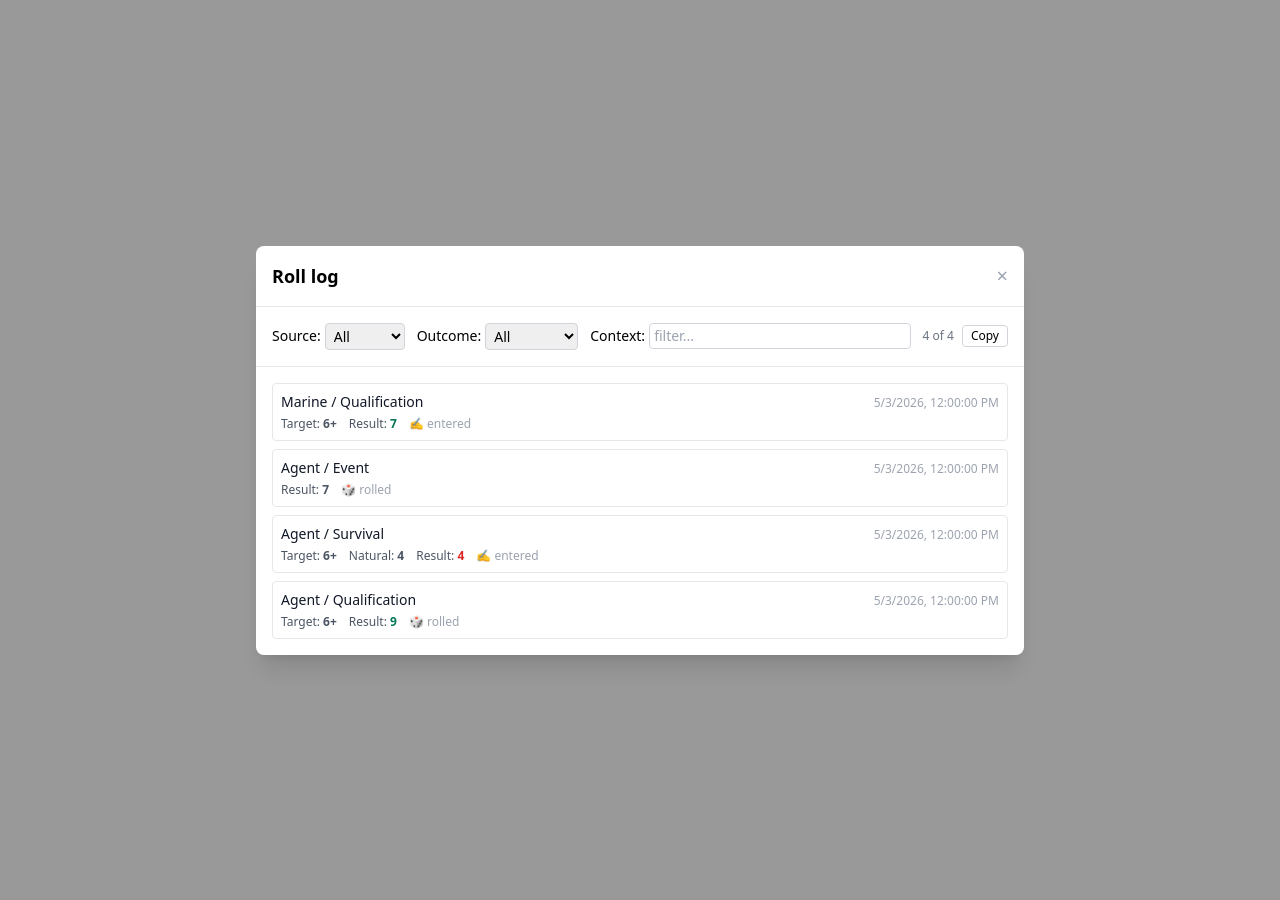
RollLogViewer › filters by outcome: fail
Select "Fail" in the dropdown named "Outcome filter" at (532, 336), box [485,322,578,350]
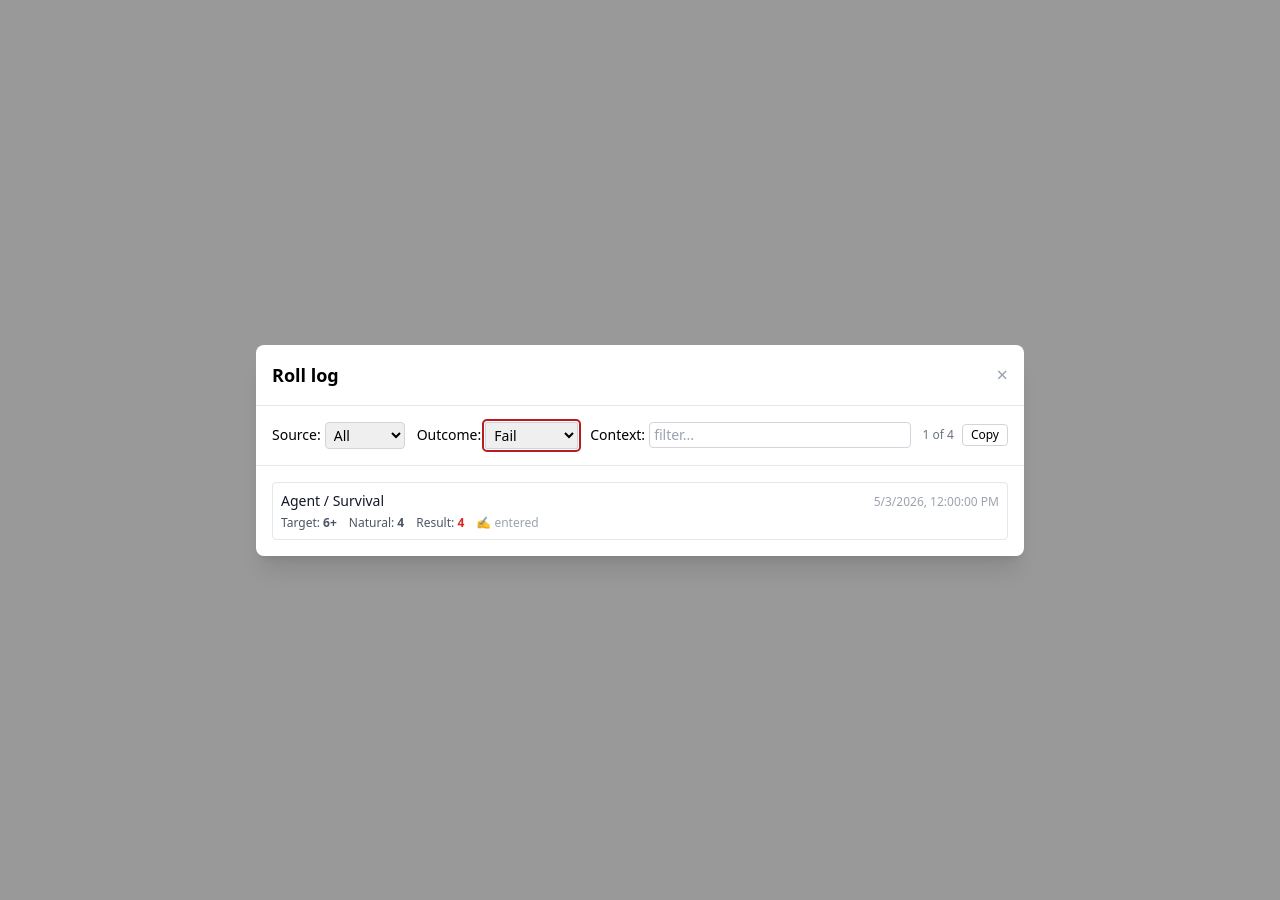
Expected: the text "Agent / Survival" is shown, [281,490,384,510]
Now the text "Agent / Qualification" is gone
